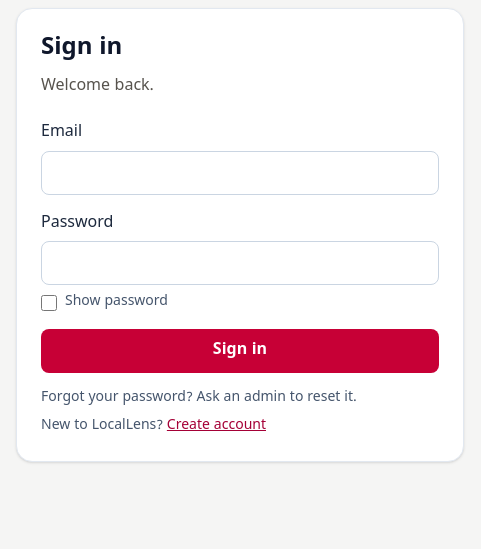
Test case: LoginPage › shows a generic message for wrong credentials
Type "ravi@example.in" into the field labelled "Email".
click(240, 173); type("ravi@example.in")  # box [41,151,439,195]
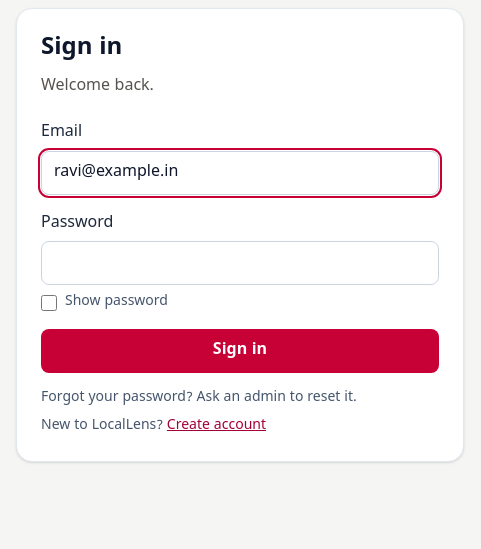
Type "wrong password" into the password field labelled "Password".
click(240, 263); type("wrong password")  # box [41,241,439,285]
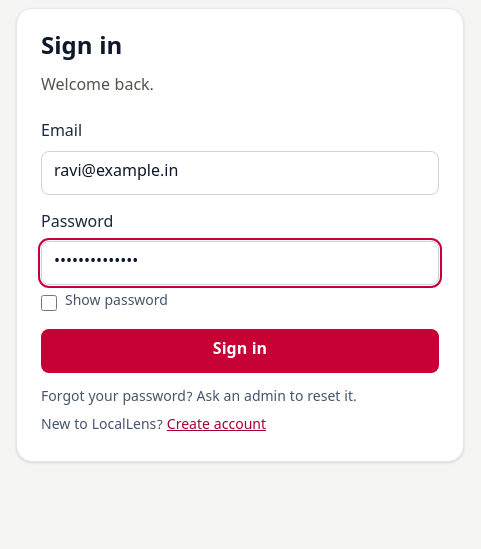
Click the button "Sign in".
click(240, 351)  # box [41,329,439,373]
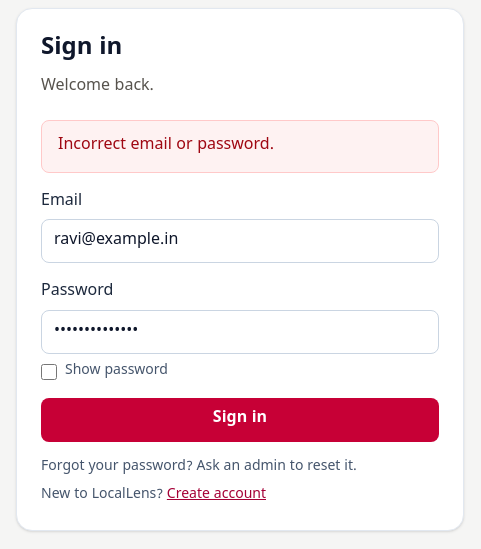
Check: the text "Incorrect email or password." is shown, box [41,120,439,173]
